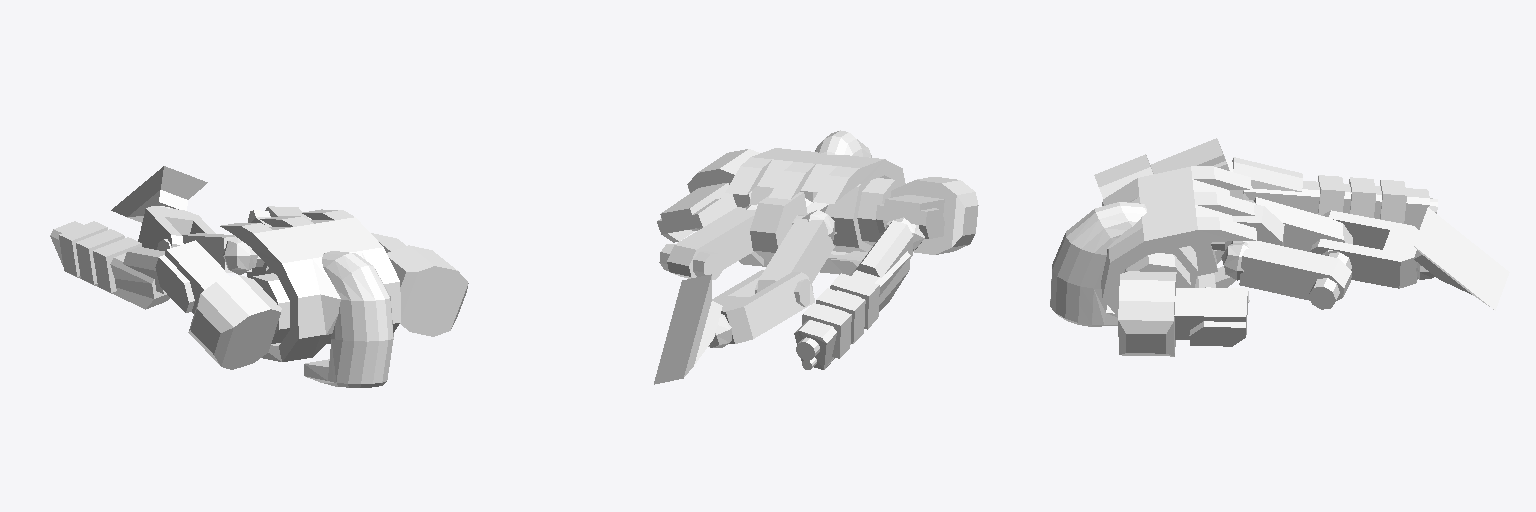
The model's file is armfast_anim_death.obj.
3 renders of one model, left to right at view 1: azimuth 30°, elevation 25°; view 2: azimuth 150°, elevation 25°; view 3: azimuth 270°, elevation 25°, orthographic.
Parts seen in each view (by area): view 1: torso, ruparm, head, luparm, gun, rfoot, rleg, rthigh, rloarm; view 2: torso, gun, ruparm, rleg, rfoot, lthigh, luparm, rthigh, pelvis, rloarm, head; view 3: torso, luparm, head, lthigh, gun, rleg, rfoot, ruparm, rthigh, rloarm, pelvis.
Part boxes in pixels (x1,y1,x2,y2): torso: (220,209,400,361); ruparm: (155,240,281,369); head: (304,251,393,387); luparm: (371,233,468,336); gun: (50,221,169,309); rfoot: (111,166,207,222); rleg: (138,206,215,249); rthigh: (157,233,257,274); rloarm: (123,247,165,293); torso: (725,148,905,275); gun: (794,251,910,369); ruparm: (876,177,978,254); rleg: (708,270,814,347); rfoot: (654,274,722,384); lthigh: (659,204,757,279); luparm: (657,149,759,242); rthigh: (755,210,834,306); pelvis: (750,192,828,261); rloarm: (855,217,924,277); head: (815,130,871,254); torso: (1101,166,1256,316); luparm: (1118,271,1247,356); head: (1050,202,1146,326); lthigh: (1221,241,1351,309); gun: (1243,175,1437,229); rleg: (1310,210,1434,288); rfoot: (1414,207,1509,310); ruparm: (1094,138,1229,198); rthigh: (1246,197,1352,255); rloarm: (1225,157,1302,199); pelvis: (1211,205,1284,274).
Size of the model in its own units: 26.87 by 12.64 by 39.56.